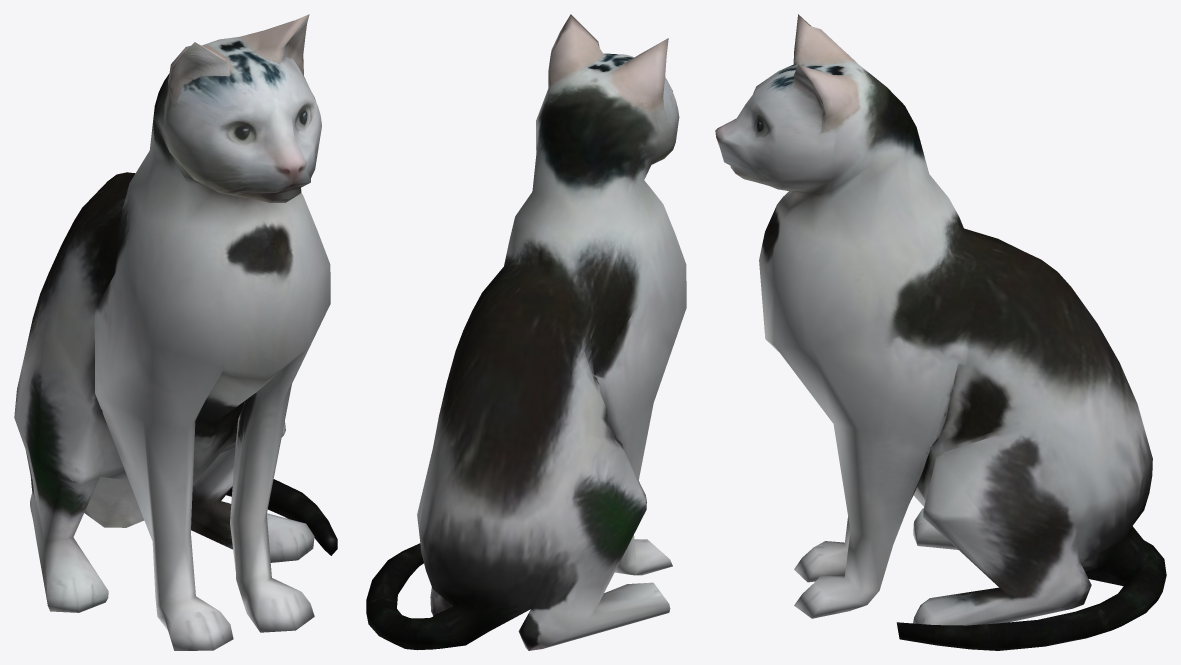
File: cat.glb
3 renders of one model, left to right at view 1: azimuth 30°, elevation 25°; view 2: azimuth 150°, elevation 25°; view 3: azimuth 270°, elevation 25°, orthographic. The views are drawn at different scales.
Visible parts, largest first — view 1: Plane; view 2: Plane; view 3: Plane.
Part boxes in pixels (x1,y1,x2,y2): Plane: (14,14,337,650); Plane: (366,14,686,650); Plane: (715,14,1166,650).
Size of the model in its own units: 4.57 by 9.12 by 6.8.
1 material, 1 textured.
